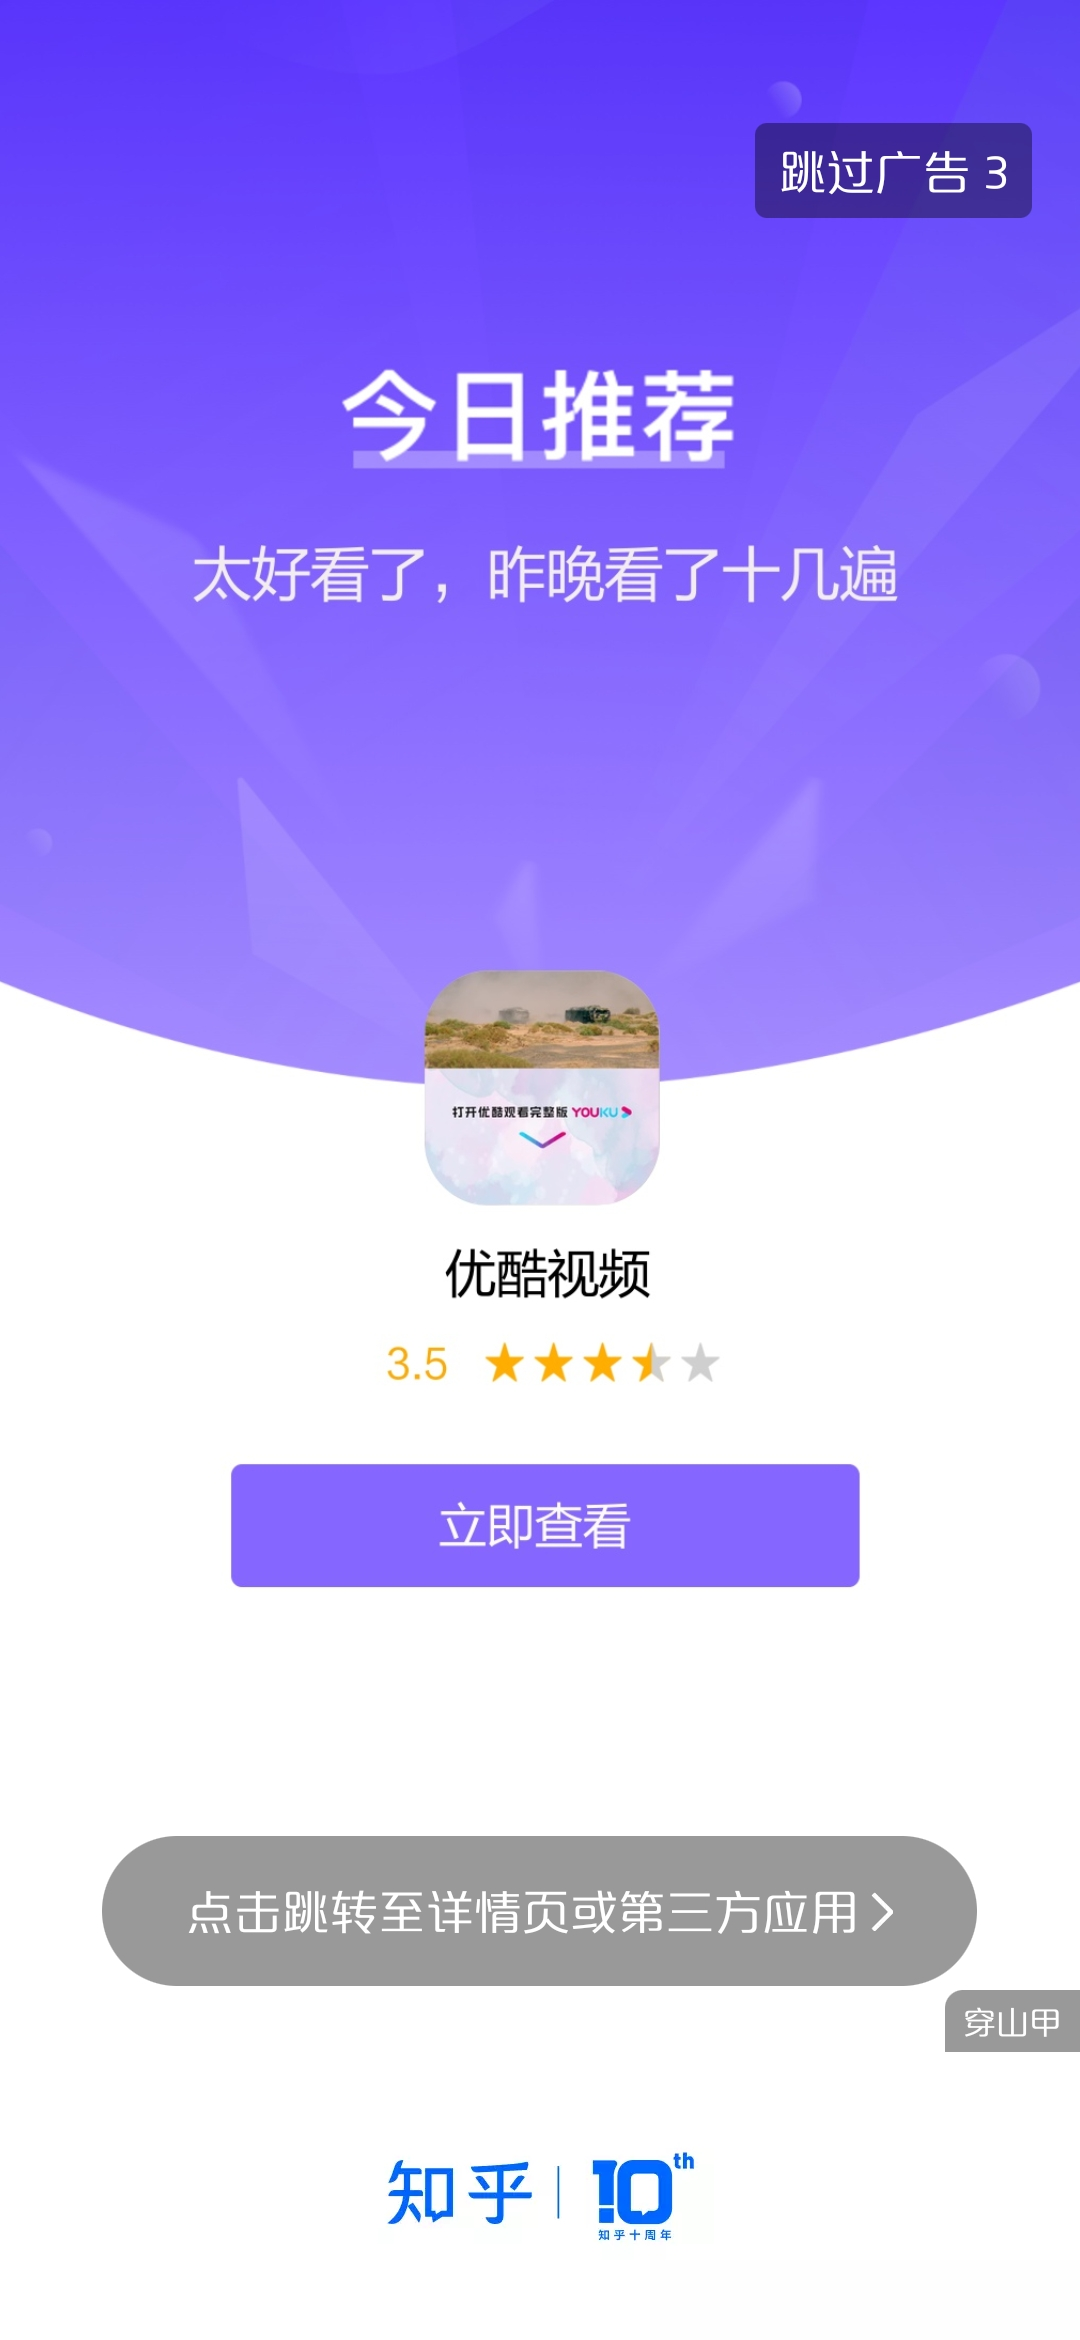skip: (765, 133, 1026, 219)
